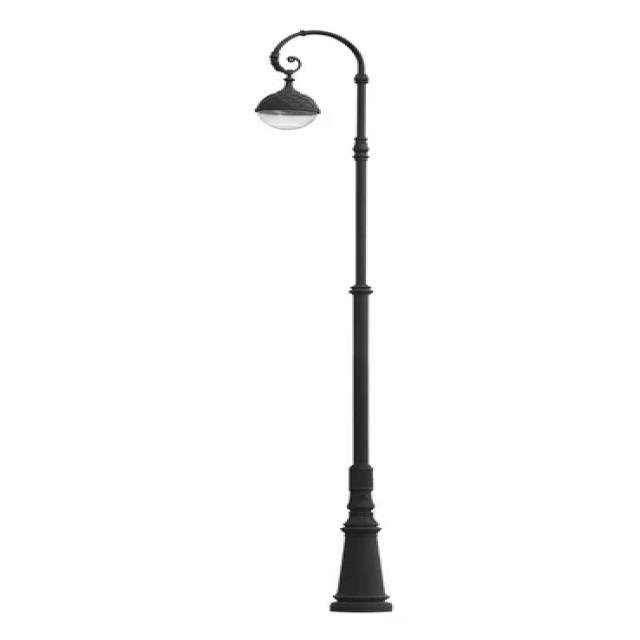Pole: (255, 30, 392, 614)
